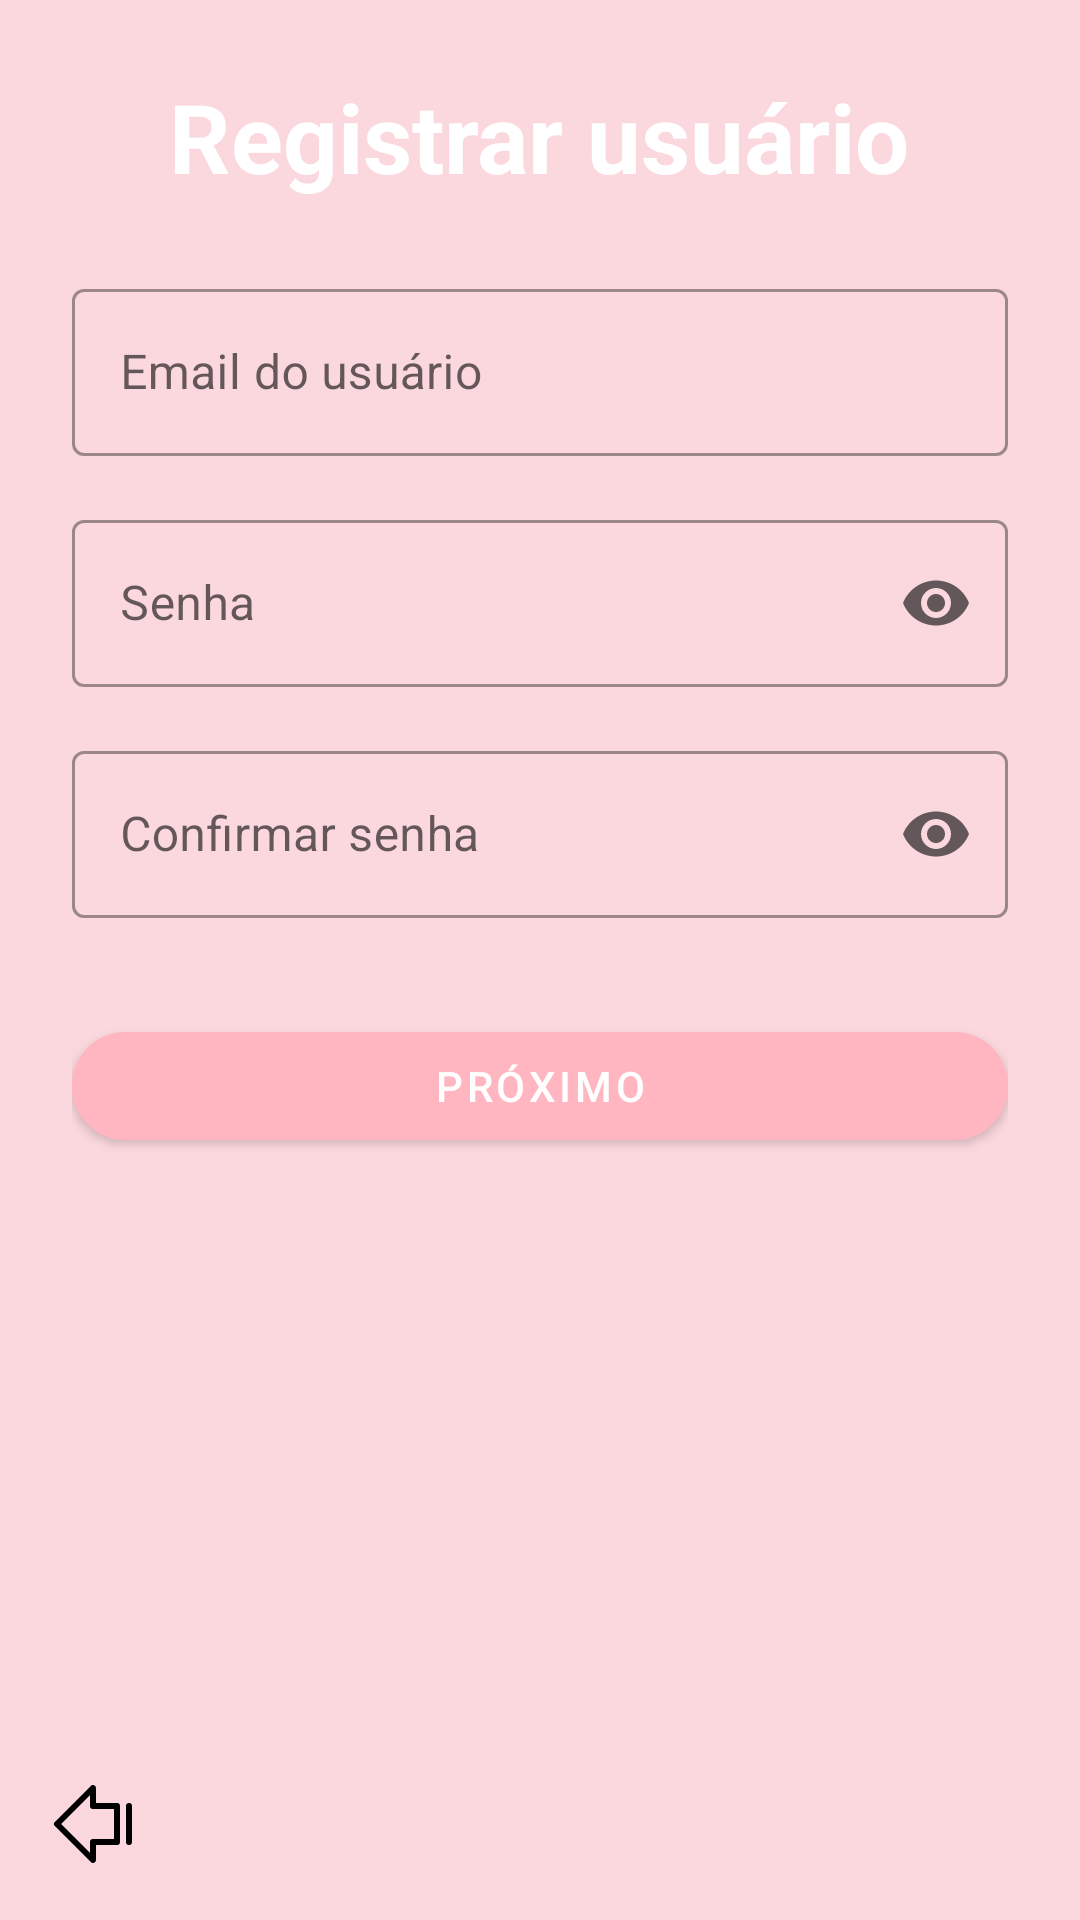

Locate icon controls on the screen. Image size 1080w x 1920h, boxes as (x1, y1, x2, y2).
arrow fat line left: (54, 1785, 132, 1863)
